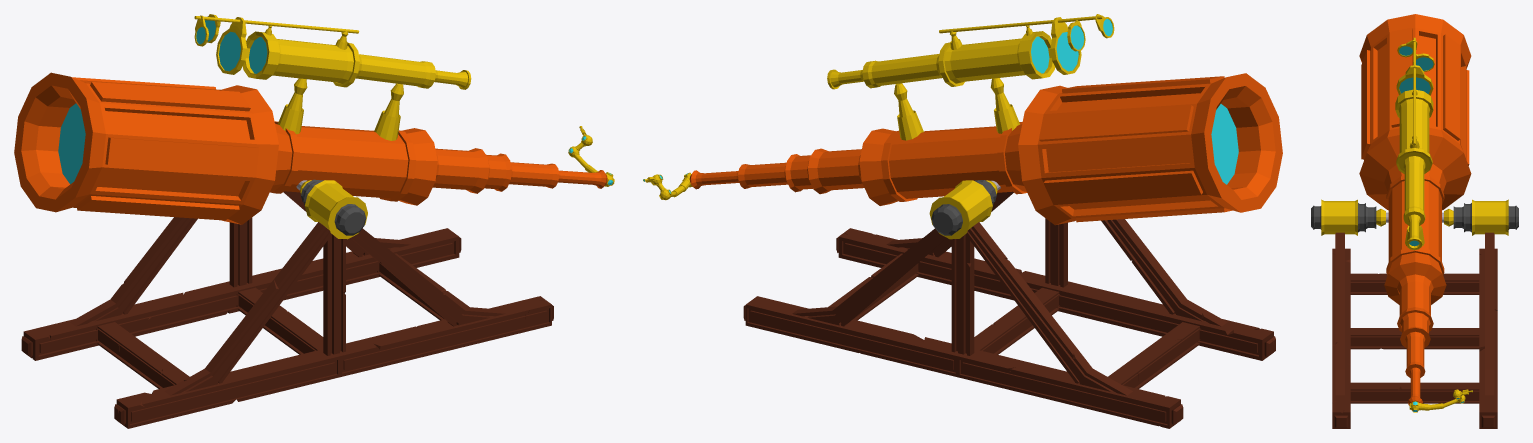
File: Telescope.fbx
The picture shows the model from 3 angles, left to right: view 1: azimuth 30°, elevation 25°; view 2: azimuth 150°, elevation 25°; view 3: azimuth 270°, elevation 25°; orthographic projection. The views are drawn at different scales.
Visible parts, largest first — view 1: Telescope; view 2: Telescope; view 3: Telescope.
Boxes of the visible parts, x1,y1,x2,y2 form: Telescope: (14,14,614,428); Telescope: (643,14,1282,428); Telescope: (1311,14,1518,428).
Size of the model in its own units: 4593 by 2603 by 1790.
